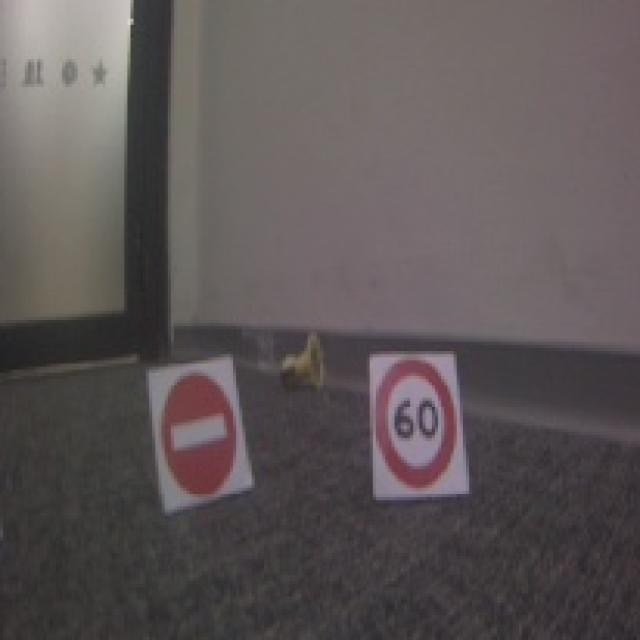DoNotEnterSign: (160, 367, 238, 496)
